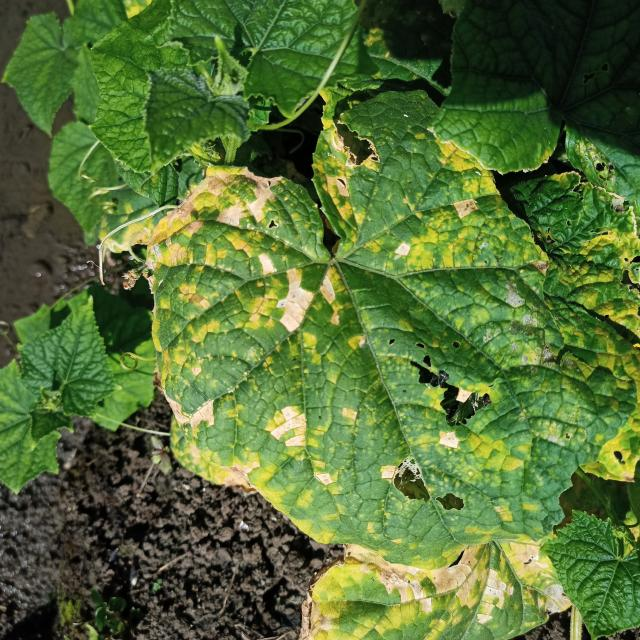disease_cucumber: (148, 139, 640, 548), (282, 497, 564, 640)
